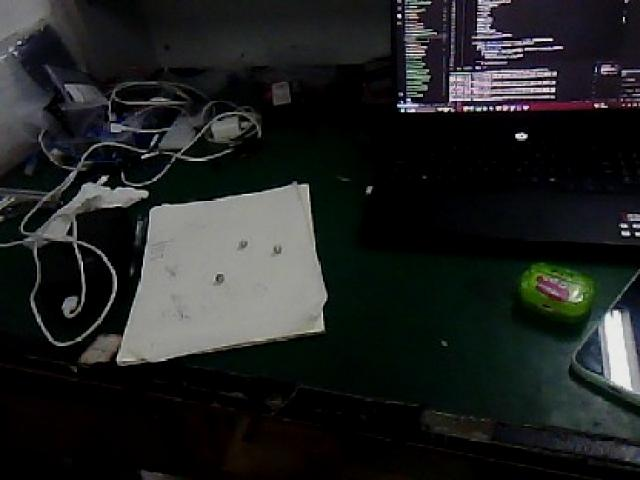steel-ball: (202, 264, 229, 290), (232, 229, 255, 257), (264, 234, 284, 263)
